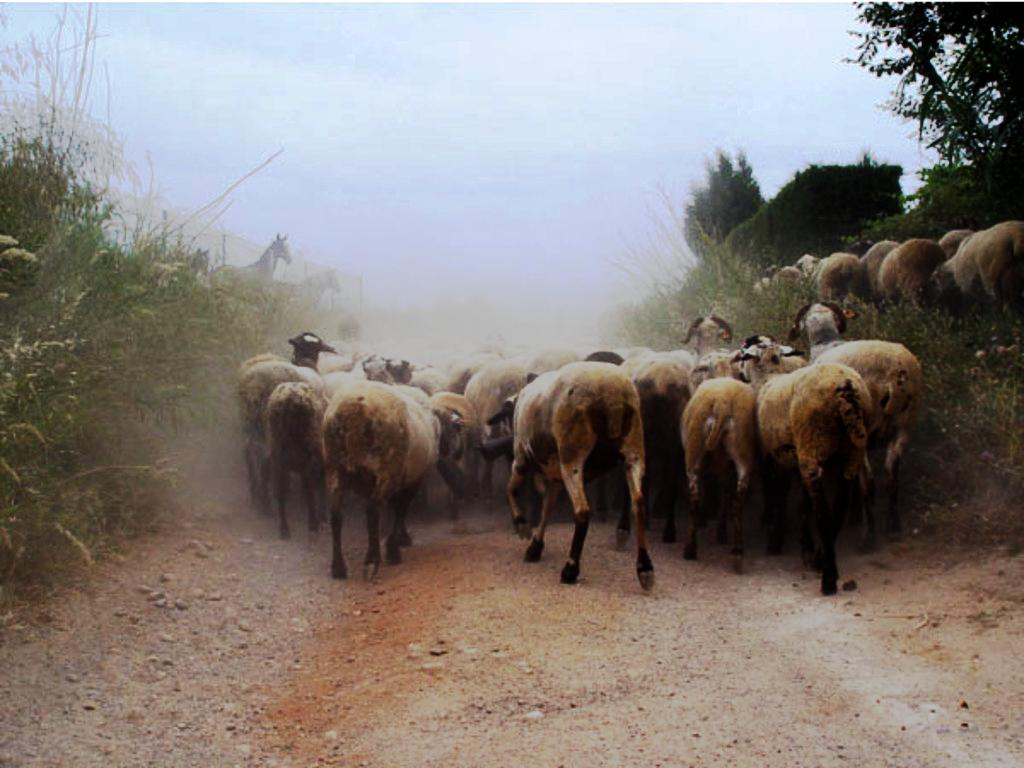Sheep: (484, 358, 658, 594), (790, 293, 929, 541), (754, 352, 878, 592), (318, 373, 442, 577), (233, 331, 337, 519), (678, 368, 762, 572), (684, 312, 840, 398), (262, 381, 330, 542), (925, 219, 1024, 321), (876, 239, 949, 311), (814, 252, 865, 307)
